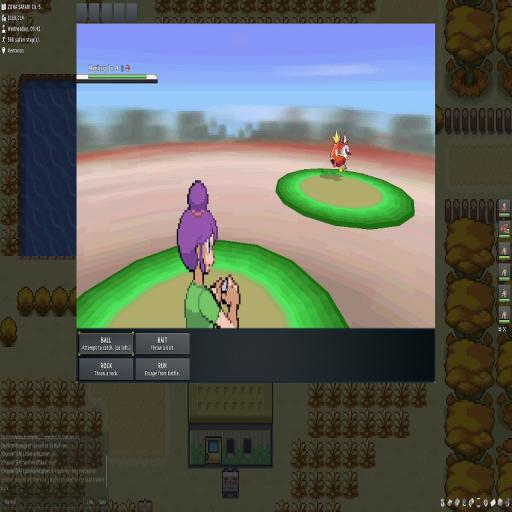FIGHTBAR: (78, 330, 191, 381)
MAGIKARP: (327, 129, 352, 181)
